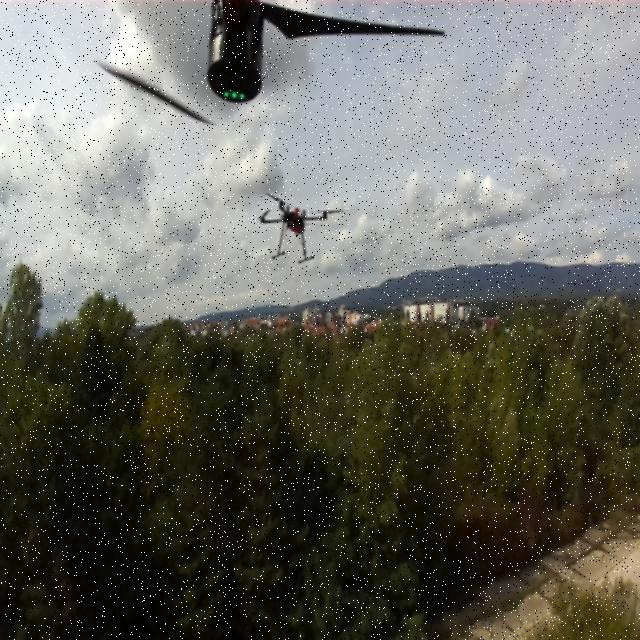UAV: (248, 187, 345, 263)
